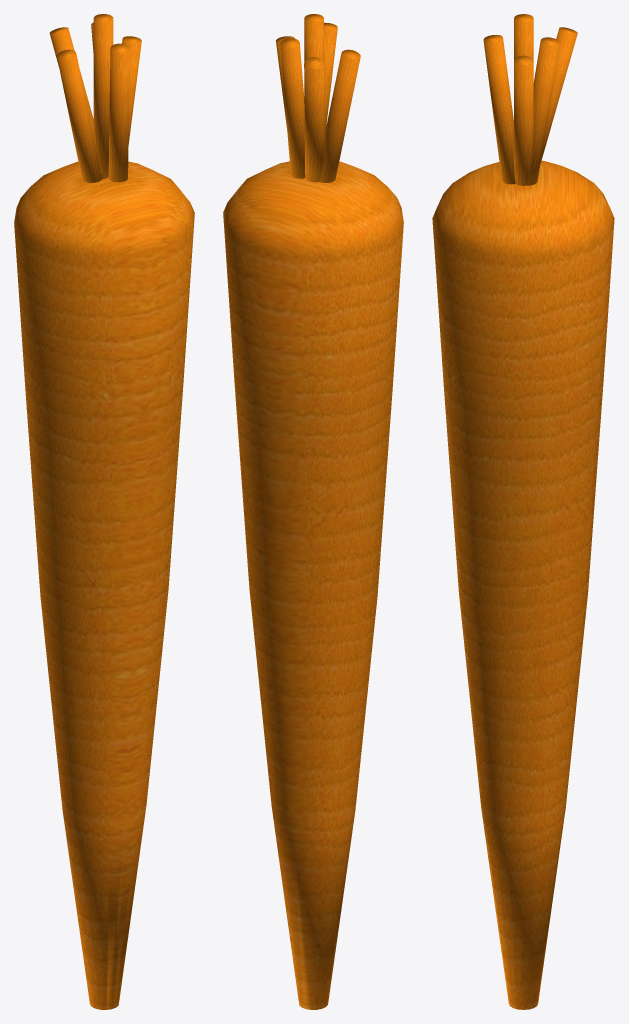
File: carrot.fbx
3 views of the same model, side by side, from view 1: azimuth 30°, elevation 25°; view 2: azimuth 150°, elevation 25°; view 3: azimuth 270°, elevation 25° (orthographic).
Visible parts, largest first — view 1: Carrot, stem; view 2: Carrot, stem; view 3: Carrot, stem.
Part boxes in pixels (bbox=[...]): Carrot: bbox=[14, 161, 194, 1009]; stem: bbox=[49, 14, 141, 182]; Carrot: bbox=[223, 161, 403, 1009]; stem: bbox=[275, 14, 360, 182]; Carrot: bbox=[432, 160, 614, 1009]; stem: bbox=[483, 14, 577, 185].
Bounding box in the file's own units: 0.19 × 1.13 × 0.19.
